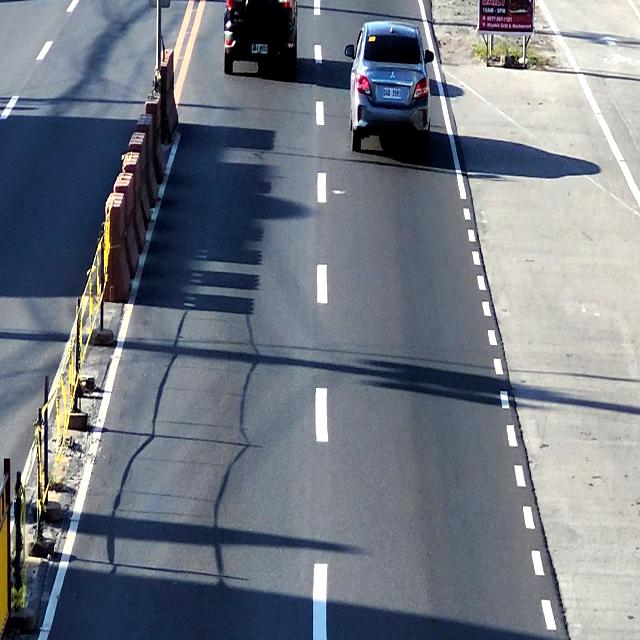Car: (352, 20, 432, 154), (224, 0, 297, 75)
License-Plate: (249, 42, 269, 56), (382, 86, 400, 98)
